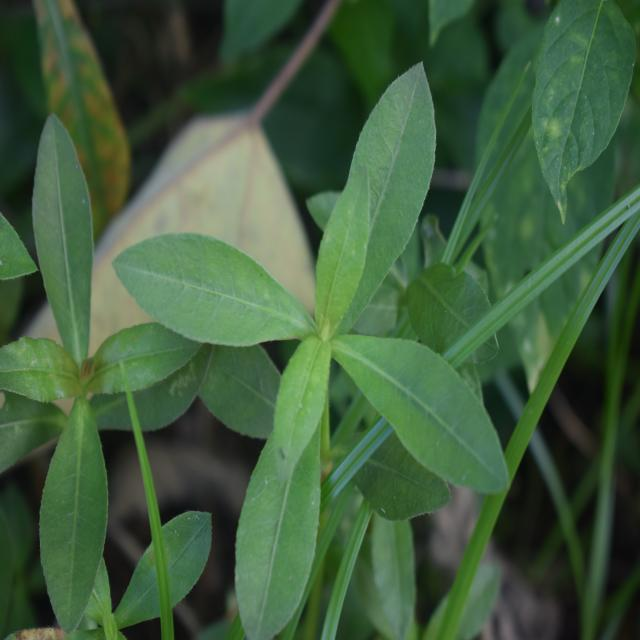Alligatorweed: (132, 111, 502, 591), (20, 119, 166, 606)
